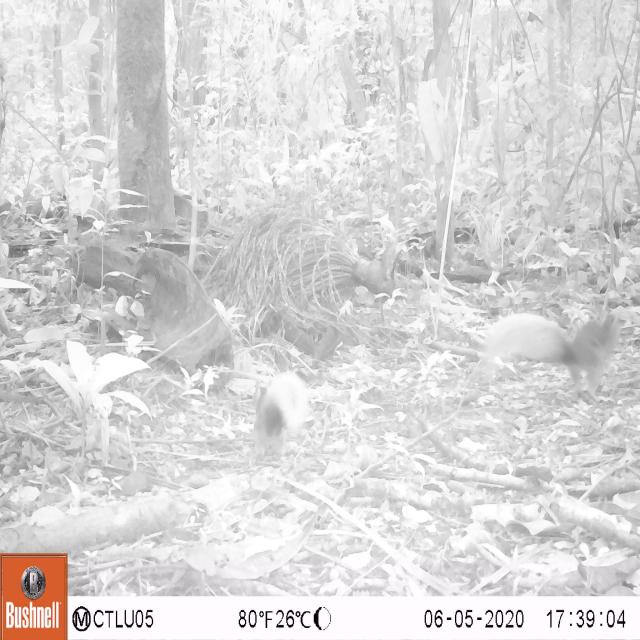Squirrel: (449, 298, 628, 402)
